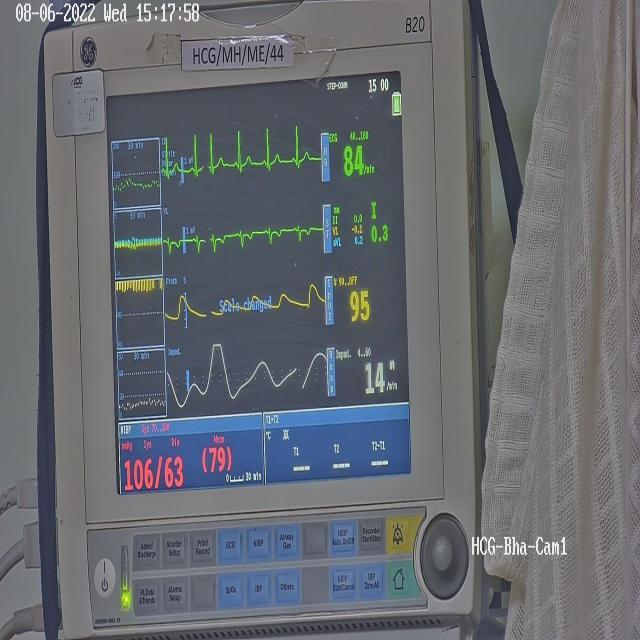Monitor: (34, 0, 490, 638)
